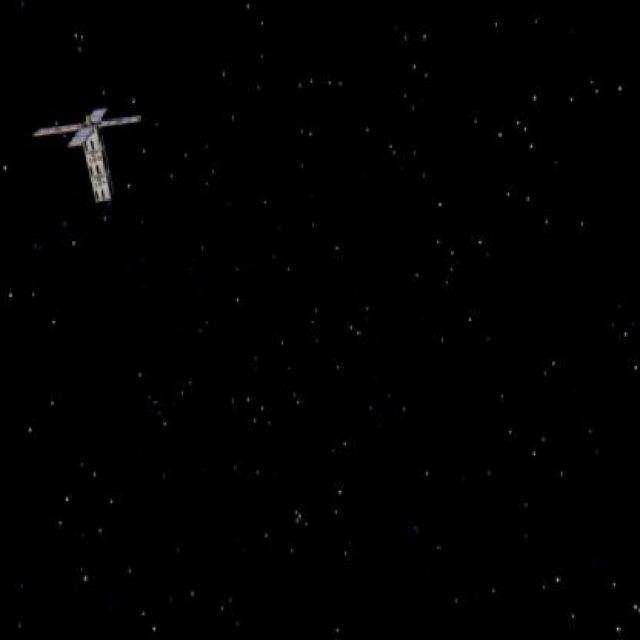medium_debris: (31, 94, 156, 214)
